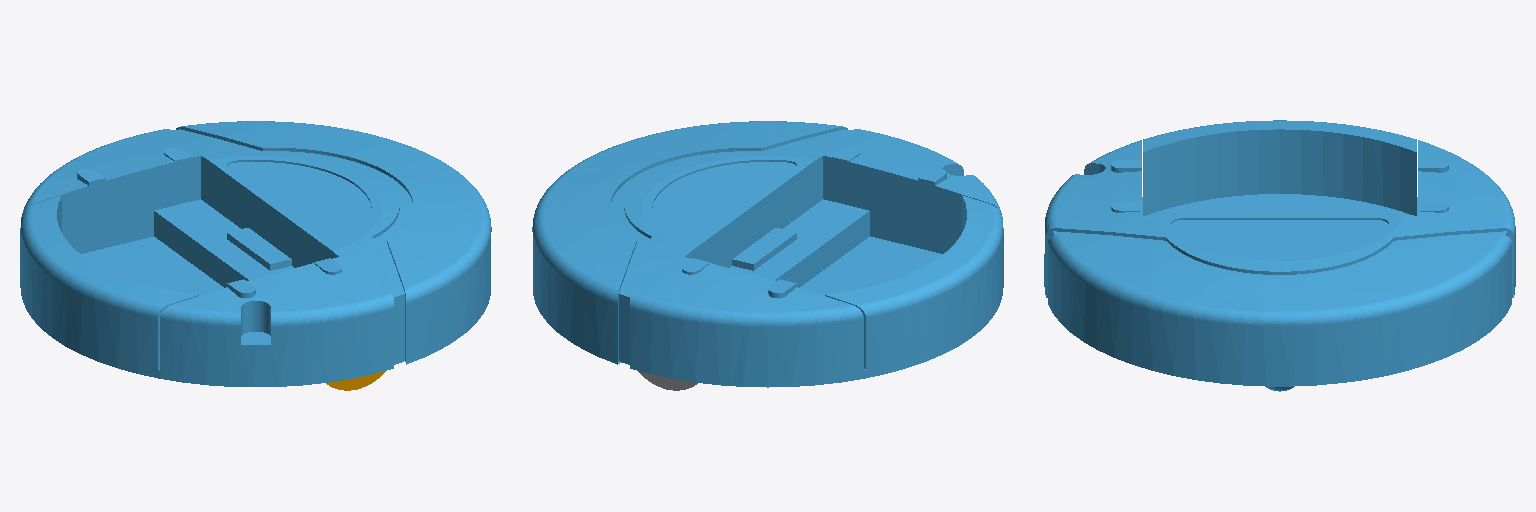
The robot description file, URDF, robot "create_1":
<?xml version="1.0" encoding="utf-8"?>
<!-- =================================================================================== -->
<!-- |    This document was autogenerated by xacro from create_1.urdf.xacro            | -->
<!-- |    EDITING THIS FILE BY HAND IS NOT RECOMMENDED                                 | -->
<!-- =================================================================================== -->
<robot name="create_1" xmlns:xacro="http://ros.org/wiki/xacro">
  <link name="base_footprint">
    <visual>
      <origin rpy="0 0 0" xyz="0 0 0"/>
      <geometry>
        <box size="0.001 0.001 0.001"/>
      </geometry>
      <material name="Green"/>
    </visual>
    <collision>
      <origin rpy="0 0 0" xyz="0 0 0.017"/>
      <geometry>
        <box size="0.001 0.001 0.001"/>
      </geometry>
    </collision>
  </link>
  <link name="base_link">
    <inertial>
      <mass value="2"/>
      <origin xyz="0 0 0.0"/>
      <inertia ixx="0.01" ixy="0.0" ixz="0.0" iyy="0.01" iyz="0.0" izz="0.5"/>
    </inertial>
    <visual>
      <origin rpy="0 0 0" xyz=" 0 0 0.0308"/>
      <geometry>
        <mesh filename="package://ca_description/meshes/create_1.dae"/>
      </geometry>
    </visual>
    <collision>
      <origin rpy="0 0 0" xyz="0.0 0.0 0.0308"/>
      <geometry>
        <cylinder length="0.0611632" radius="0.16495"/>
      </geometry>
    </collision>
  </link>
  <link name="wall_sensor_link">
    <inertial>
      <mass value="0.01"/>
      <origin xyz="0 0 0"/>
      <inertia ixx="0.001" ixy="0.0" ixz="0.0" iyy="0.001" iyz="0.0" izz="0.001"/>
    </inertial>
  </link>
  <link name="left_cliff_sensor_link">
    <inertial>
      <mass value="0.01"/>
      <origin xyz="0 0 0"/>
      <inertia ixx="0.001" ixy="0.0" ixz="0.0" iyy="0.001" iyz="0.0" izz="0.001"/>
    </inertial>
  </link>
  <link name="right_cliff_sensor_link">
    <inertial>
      <mass value="0.01"/>
      <origin xyz="0 0 0"/>
      <inertia ixx="0.001" ixy="0.0" ixz="0.0" iyy="0.001" iyz="0.0" izz="0.001"/>
    </inertial>
  </link>
  <link name="leftfront_cliff_sensor_link">
    <inertial>
      <mass value="0.01"/>
      <origin xyz="0 0 0"/>
      <inertia ixx="1.0" ixy="0.0" ixz="0.0" iyy="0.01" iyz="0.0" izz="0.01"/>
    </inertial>
  </link>
  <link name="rightfront_cliff_sensor_link">
    <inertial>
      <mass value="0.01"/>
      <origin xyz="0 0 0"/>
      <inertia ixx="0.001" ixy="0.0" ixz="0.0" iyy="0.001" iyz="0.0" izz="0.001"/>
    </inertial>
  </link>
  <joint name="base_footprint_joint" type="fixed">
    <origin rpy="0 0 0" xyz="0 0 0.017"/>
    <parent link="base_footprint"/>
    <child link="base_link"/>
  </joint>
  <joint name="base_wall_sensor_joint" type="fixed">
    <origin rpy="0 0 -1.0" xyz="0.09 -0.120 0.042"/>
    <parent link="base_link"/>
    <child link="wall_sensor_link"/>
  </joint>
  <joint name="base_left_cliff_sensor_joint" type="fixed">
    <origin rpy="0 1.57079632679 0" xyz="0.07 0.14 0.01"/>
    <parent link="base_link"/>
    <child link="left_cliff_sensor_link"/>
  </joint>
  <joint name="base_right_cliff_sensor_joint" type="fixed">
    <origin rpy="0 1.57079632679 0" xyz="0.07 -0.14 0.01"/>
    <parent link="base_link"/>
    <child link="right_cliff_sensor_link"/>
  </joint>
  <joint name="base_leftfront_cliff_sensor_joint" type="fixed">
    <origin rpy="0 1.57079632679 0" xyz="0.15 0.04 0.01"/>
    <parent link="base_link"/>
    <child link="leftfront_cliff_sensor_link"/>
  </joint>
  <joint name="base_rightfront_cliff_sensor_joint" type="fixed">
    <origin rpy="0 1.57079632679 0" xyz="0.15 -0.04 0.01"/>
    <parent link="base_link"/>
    <child link="rightfront_cliff_sensor_link"/>
  </joint>
  <link name="left_wheel_link">
    <inertial>
      <origin xyz="0 0 0"/>
      <mass value="0.01"/>
      <inertia ixx="0.001" ixy="0.0" ixz="0.0" iyy="0.001" iyz="0.0" izz="0.001"/>
    </inertial>
    <visual>
      <origin rpy="0 1.57079632679 1.57079632679" xyz="0 0 0"/>
      <geometry>
        <cylinder length="0.024" radius="0.036"/>
      </geometry>
    </visual>
    <collision>
      <origin rpy="0 1.57079632679 1.57079632679" xyz="0 0 0"/>
      <geometry>
        <cylinder length="0.024" radius="0.036"/>
      </geometry>
    </collision>
  </link>
  <joint name="left_wheel_joint" type="continuous">
    <origin rpy="0 0 0" xyz="0 0.13 0.015"/>
    <parent link="base_link"/>
    <child link="left_wheel_link"/>
    <axis xyz="0 1 0"/>
  </joint>
  <link name="right_wheel_link">
    <inertial>
      <origin xyz="0 0 0"/>
      <mass value="0.01"/>
      <inertia ixx="0.001" ixy="0.0" ixz="0.0" iyy="0.001" iyz="0.0" izz="0.001"/>
    </inertial>
    <visual>
      <origin rpy="0 1.57079632679 1.57079632679" xyz="0 0 0"/>
      <geometry>
        <cylinder length="0.024" radius="0.036"/>
      </geometry>
    </visual>
    <collision>
      <origin rpy="0 1.57079632679 1.57079632679" xyz="0 0 0"/>
      <geometry>
        <cylinder length="0.024" radius="0.036"/>
      </geometry>
    </collision>
  </link>
  <joint name="right_wheel_joint" type="continuous">
    <origin rpy="0 0 0" xyz="0 -0.13 0.015"/>
    <parent link="base_link"/>
    <child link="right_wheel_link"/>
    <axis xyz="0 1 0"/>
  </joint>
  <!--<link name="rear_wheel_link">
    <inertial>
      <origin xyz="0 0 0"/>
      <mass value="0.001" />
      <inertia ixx="0.0001" ixy="0.0" ixz="0.0"
        iyy="0.0001" iyz="0.0" izz="0.0001" />
    </inertial>

    <visual>
      <origin xyz="0 0 0" rpy="0 ${PI/2} ${PI/2}"/>
      <geometry>
        <sphere radius="0.015" />
      </geometry>
    </visual>

    <collision>
      <origin xyz="0 0 0" rpy="0 ${PI/2} ${PI/2}" />
      <geometry>
        <sphere radius="0.015" />
      </geometry>
    </collision>
    </link>
    <joint name="rear_castor_joint" type="fixed">
      <origin xyz="-0.13 0 0.0" rpy="0 0 0"/>
      <parent link="base_link"/>
      <child link="rear_wheel_link"/>
      <axis xyz="0 1 0"/>
    </joint>-->
  <link name="front_wheel_link">
    <inertial>
      <origin xyz="0 0 0"/>
      <mass value="0.01"/>
      <inertia ixx="0.001" ixy="0.0" ixz="0.0" iyy="0.001" iyz="0.0" izz="0.001"/>
    </inertial>
    <visual>
      <origin rpy="0 1.57079632679 1.57079632679" xyz="0 0 0"/>
      <geometry>
        <sphere radius="0.018"/>
      </geometry>
    </visual>
    <collision>
      <origin rpy="0 1.57079632679 1.57079632679" xyz="0 0 0"/>
      <geometry>
        <sphere radius="0.018"/>
      </geometry>
    </collision>
  </link>
  <!-- fixed because there's no transmission -->
  <joint name="front_castor_joint" type="fixed">
    <origin rpy="0 0 0" xyz="0.13 0 0.0"/>
    <parent link="base_link"/>
    <child link="front_wheel_link"/>
    <axis xyz="0 1 0"/>
  </joint>
  <joint name="gyro_joint" type="fixed">
    <axis xyz="0 1 0"/>
    <origin rpy="0 0 0" xyz="0 0 0.04"/>
    <parent link="base_link"/>
    <child link="gyro_link"/>
  </joint>
  <link name="gyro_link">
    <inertial>
      <mass value="0.001"/>
      <origin rpy="0 0 0" xyz="0 0 0"/>
      <inertia ixx="0.0001" ixy="0" ixz="0" iyy="0.000001" iyz="0" izz="0.0001"/>
    </inertial>
  </link>
  <gazebo>
    <plugin filename="libgazebo_ros_diff_drive.so" name="differential_drive_controller">
      <alwaysOn>true</alwaysOn>
      <updateRate>40</updateRate>
      <leftJoint>right_wheel_joint</leftJoint>
      <rightJoint>left_wheel_joint</rightJoint>
      <wheelSeparation>0.26</wheelSeparation>
      <wheelDiameter>0.072</wheelDiameter>
      <wheelTorque>1.0</wheelTorque>
      <!--wheelAcceleration>${wheel_accel}</wheelAcceleration-->
      <commandTopic>cmd_vel</commandTopic>
      <odometryTopic>odom</odometryTopic>
      <odometryFrame>odom</odometryFrame>
      <robotBaseFrame>base_footprint</robotBaseFrame>
    </plugin>
    <plugin filename="libgazebo_ros_p3d.so" name="p3d_base_controller">
      <alwaysOn>true</alwaysOn>
      <updateRate>100.0</updateRate>
      <bodyName>base_link</bodyName>
      <topicName>simple_controller/absolute_position</topicName>
      <gaussianNoise>0</gaussianNoise>
      <frameName>map</frameName>
      <xyzOffsets>0 0 0</xyzOffsets>
      <rpyOffsets>0 0 0</rpyOffsets>
      <!--<interface:position name="p3d_base_position"/>-->
    </plugin>
  </gazebo>
  <gazebo reference="left_wheel_link">
    <mu1>1.0</mu1>
    <mu2>1.0</mu2>
    <kp>1000000.0</kp>
    <kd>100.0</kd>
    <minDepth>0.001</minDepth>
    <maxVel>1.0</maxVel>
  </gazebo>
  <gazebo reference="right_wheel_link">
    <mu1>1.0</mu1>
    <mu2>1.0</mu2>
    <kp>1000000.0</kp>
    <kd>100.0</kd>
    <minDepth>0.001</minDepth>
    <maxVel>1.0</maxVel>
  </gazebo>
  <gazebo reference="rear_wheel_link">
    <mu1>0.0</mu1>
    <mu2>0.0</mu2>
    <kp>1000000.0</kp>
    <kd>100.0</kd>
    <minDepth>0.001</minDepth>
    <maxVel>1.0</maxVel>
  </gazebo>
  <gazebo reference="front_wheel_link">
    <mu1>0.0</mu1>
    <mu2>0.0</mu2>
    <kp>1000000.0</kp>
    <kd>100.0</kd>
    <minDepth>0.001</minDepth>
    <maxVel>1.0</maxVel>
  </gazebo>
  <gazebo reference="wall_sensor_link">
    <sensor name="wall_sensor" type="ray">
      <always_on>true</always_on>
      <update_rate>20.0</update_rate>
      <pose>0 0 0 0 0 0</pose>
      <visualize>false</visualize>
      <ray>
        <scan>
          <horizontal>
            <samples>1</samples>
            <resolution>1</resolution>
            <min_angle>0</min_angle>
            <max_angle>0</max_angle>
          </horizontal>
        </scan>
        <range>
          <min>0.0160</min>
          <max>0.04</max>
          <resolution>0.1</resolution>
        </range>
      </ray>
    </sensor>
  </gazebo>
  <gazebo reference="left_cliff_sensor_link">
    <sensor name="left_cliff_sensor" type="ray">
      <always_on>true</always_on>
      <update_rate>20.0</update_rate>
      <pose>0 0 0 0 0 0</pose>
      <visualize>false</visualize>
      <ray>
        <scan>
          <horizontal>
            <samples>1</samples>
            <resolution>1</resolution>
            <min_angle>0</min_angle>
            <max_angle>0</max_angle>
          </horizontal>
        </scan>
        <range>
          <min>0.01</min>
          <max>0.04</max>
          <resolution>0.1</resolution>
        </range>
      </ray>
    </sensor>
  </gazebo>
  <gazebo reference="right_cliff_sensor_link">
    <sensor name="right_cliff_sensor" type="ray">
      <always_on>true</always_on>
      <update_rate>20.0</update_rate>
      <pose>0 0 0 0 0 0</pose>
      <visualize>false</visualize>
      <ray>
        <scan>
          <horizontal>
            <samples>1</samples>
            <resolution>1</resolution>
            <min_angle>0</min_angle>
            <max_angle>0</max_angle>
          </horizontal>
        </scan>
        <range>
          <min>0.01</min>
          <max>0.04</max>
          <resolution>0.1</resolution>
        </range>
      </ray>
    </sensor>
  </gazebo>
  <gazebo reference="leftfront_cliff_sensor_link">
    <sensor name="leftfront_cliff_sensor" type="ray">
      <always_on>true</always_on>
      <update_rate>20.0</update_rate>
      <pose>0 0 0 0 0 0</pose>
      <visualize>false</visualize>
      <ray>
        <scan>
          <horizontal>
            <samples>1</samples>
            <resolution>1</resolution>
            <min_angle>0</min_angle>
            <max_angle>0</max_angle>
          </horizontal>
        </scan>
        <range>
          <min>0.01</min>
          <max>0.04</max>
          <resolution>0.1</resolution>
        </range>
      </ray>
    </sensor>
  </gazebo>
  <gazebo reference="rightfront_cliff_sensor_link">
    <sensor name="rightfront_cliff_sensor" type="ray">
      <always_on>true</always_on>
      <update_rate>20.0</update_rate>
      <pose>0 0 0 0 0 0</pose>
      <visualize>false</visualize>
      <ray>
        <scan>
          <horizontal>
            <samples>1</samples>
            <resolution>1</resolution>
            <min_angle>0</min_angle>
            <max_angle>0</max_angle>
          </horizontal>
        </scan>
        <range>
          <min>0.01</min>
          <max>0.04</max>
          <resolution>0.1</resolution>
        </range>
      </ray>
    </sensor>
  </gazebo>
  <gazebo>
    <plugin filename="libgazebo_ros_imu.so" name="imu_controller">
      <alwaysOn>true</alwaysOn>
      <updateRate>30</updateRate>
      <bodyName>gyro_link</bodyName>
      <topicName>imu/data</topicName>
      <serviceName>imu/is_calibrated</serviceName>
      <gaussianNoise>2.89e-06</gaussianNoise>
      <xyzOffsets>0 0 0</xyzOffsets>
      <rpyOffsets>0 0 0</rpyOffsets>
    </plugin>
  </gazebo>
</robot>

--- What the picture shows (computed from the rendered views, not written in the file) ---
3 views of the same robot in one strip: view 1: azimuth 30°, elevation 25°; view 2: azimuth 150°, elevation 25°; view 3: azimuth 270°, elevation 25° (orthographic).
Robot: create_1 — 11 links, 10 joints (2 continuous, 8 fixed); root link base_footprint; default pose: all joints at 0.
Visible links, largest first — view 1: base_link; view 2: base_link; view 3: base_link.
Boxes of the visible links, box(x1,y1,x2,y2) form: base_link: box(20, 121, 491, 386); base_link: box(532, 121, 1003, 387); base_link: box(1044, 120, 1515, 386).
Bounding box of the posed robot: 0.33 × 0.33 × 0.0824 m (x, y, z).
Meshes: 1 distinct files referenced, 1 mesh visuals loaded (1 Collada DAE).
